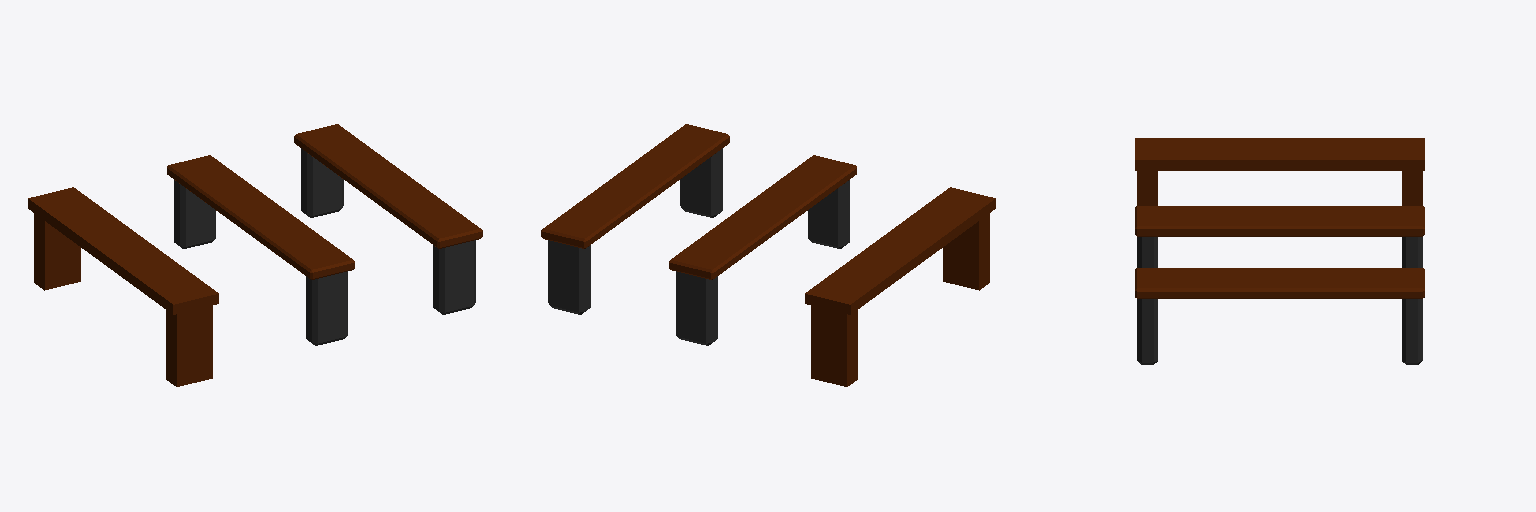
The model's file is Bench.obj.
3 views of the same model, side by side, from view 1: azimuth 30°, elevation 25°; view 2: azimuth 150°, elevation 25°; view 3: azimuth 270°, elevation 25° (orthographic).
Visible parts, largest first — view 1: Cube.006, Cube.003, Cube.002, Cube.004, Cube.001, Cube.005, Cube; view 2: Cube.006, Cube.003, Cube.002, Cube.005, Cube, Cube.004, Cube.001; view 3: Cube.006, Cube.003, Cube.002, Cube.004, Cube.005, Cube, Cube.001.
Boxes of the visible parts, x1,y1,x2,y2 form: Cube.006: [294, 124, 482, 314]; Cube.003: [28, 187, 218, 314]; Cube.002: [167, 155, 354, 279]; Cube.004: [166, 306, 212, 386]; Cube.001: [306, 271, 347, 345]; Cube.005: [34, 213, 80, 290]; Cube: [174, 180, 215, 248]; Cube.006: [541, 124, 729, 314]; Cube.003: [805, 187, 995, 314]; Cube.002: [669, 155, 856, 279]; Cube.005: [811, 306, 857, 386]; Cube: [676, 271, 717, 345]; Cube.004: [943, 213, 989, 290]; Cube.001: [808, 180, 849, 248]; Cube.006: [1135, 268, 1424, 364]; Cube.003: [1135, 138, 1424, 170]; Cube.002: [1135, 206, 1424, 236]; Cube.004: [1137, 171, 1157, 205]; Cube.005: [1402, 171, 1422, 205]; Cube: [1402, 237, 1422, 267]; Cube.001: [1137, 237, 1157, 267].
Size of the model in its own units: 13.56 by 3.53 by 11.